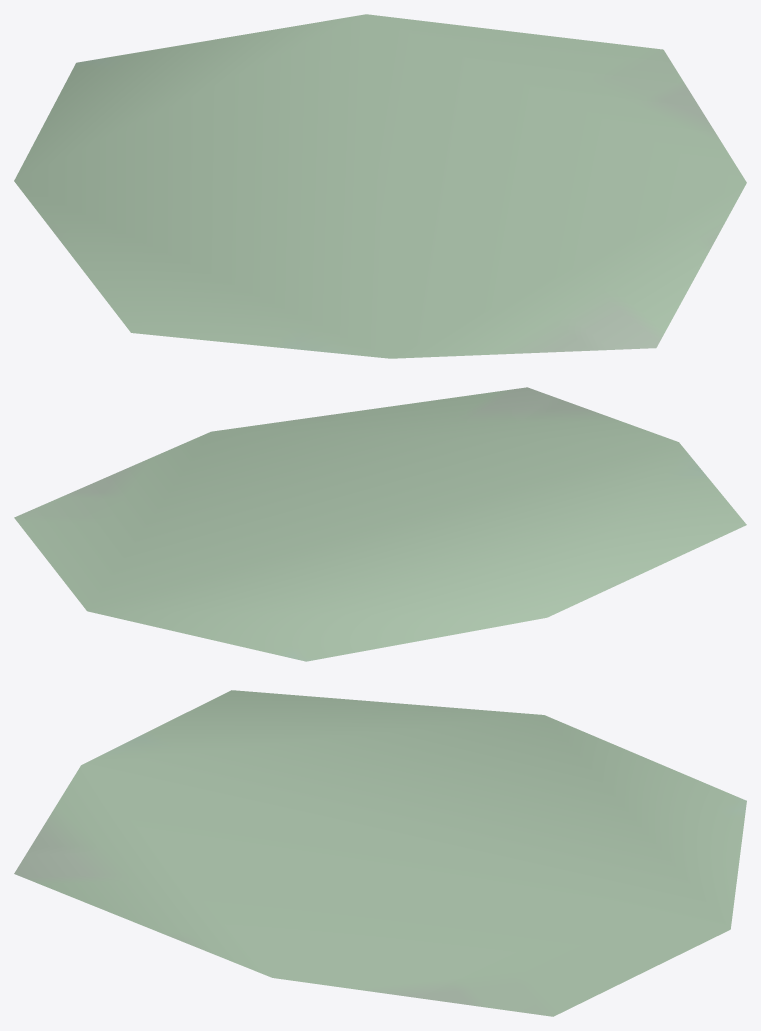
File: TROLLHOLE02_HOLECAP144.fbx
3 views of the same model, one above another, from view 1: azimuth 30°, elevation 25°; view 2: azimuth 150°, elevation 25°; view 3: azimuth 270°, elevation 25° (orthographic). The views are drawn at different scales.
Parts seen in each view (by area): view 1: TROLLHOLE02_HOLECAP144; view 2: TROLLHOLE02_HOLECAP144; view 3: TROLLHOLE02_HOLECAP144.
Boxes of the visible parts, x1,y1,x2,y2 form: TROLLHOLE02_HOLECAP144: [14, 14, 746, 358]; TROLLHOLE02_HOLECAP144: [14, 387, 746, 661]; TROLLHOLE02_HOLECAP144: [14, 690, 746, 1016].
Bounding box in the file's own units: 28410 × 1210 × 29187.
1 material, 1 textured.
